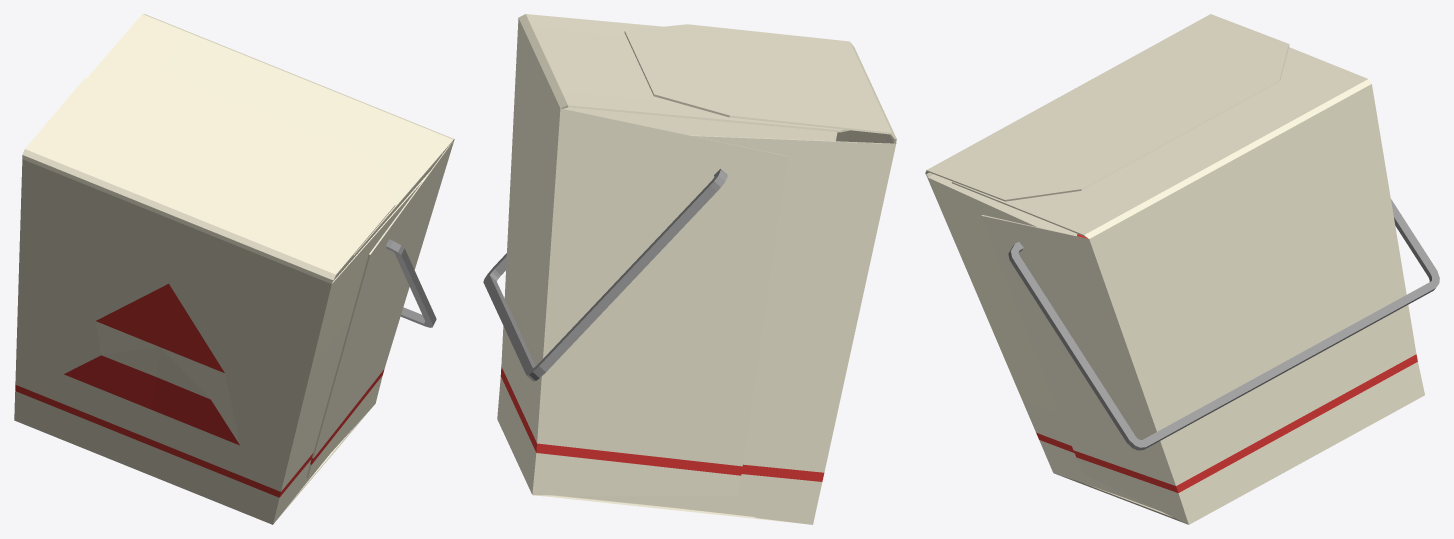
File: takeout_box.glb
The picture shows the model from 3 angles, left to right: view 1: azimuth 30°, elevation 25°; view 2: azimuth 150°, elevation 25°; view 3: azimuth 270°, elevation 25°; orthographic projection. The views are drawn at different scales.
Visible parts, largest first — view 1: Cube.432; view 2: Cube.432; view 3: Cube.432.
Boxes of the visible parts, x1=… form: Cube.432: x1=14, y1=14, x2=454, y2=524; Cube.432: x1=483, y1=14, x2=896, y2=524; Cube.432: x1=925, y1=14, x2=1439, y2=524.
Bounding box in the file's own units: 2.03 × 2.02 × 2.32.
1 material, 1 textured.
